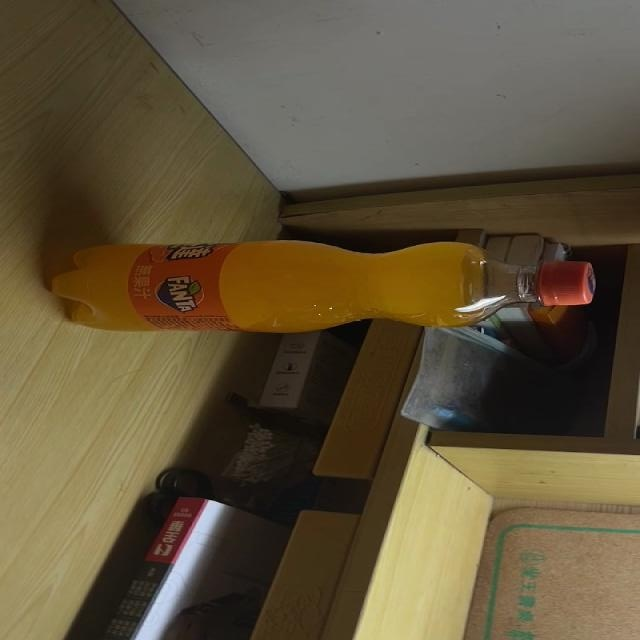Fanta: (49, 240, 595, 332)
